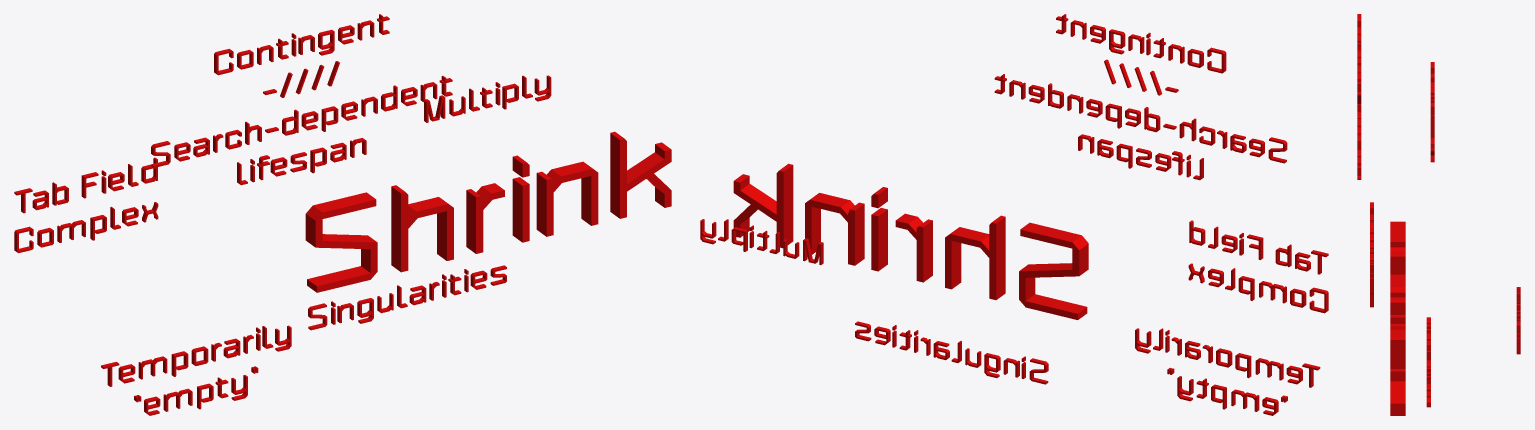
File: HYPOTHESIS_4_KEY_WORDS_FOR_HIGHLIGHTING.fbx
3 views of the same model, side by side, from view 1: azimuth 30°, elevation 25°; view 2: azimuth 150°, elevation 25°; view 3: azimuth 270°, elevation 25° (orthographic). The views are drawn at different scales.
Visible parts, largest first — view 1: Shrink, typeMesh4, typeMesh3, Tab_field_complex, singularities, Multiply; view 2: Shrink, typeMesh4, typeMesh3, Tab_field_complex, singularities, Multiply; view 3: Shrink, typeMesh4, Tab_field_complex, singularities, typeMesh3, Multiply.
Boxes of the visible parts, x1,y1,x2,y2 form: Shrink: (305, 131, 671, 292); typeMesh4: (151, 14, 452, 185); typeMesh3: (101, 325, 291, 415); Tab_field_complex: (14, 157, 158, 253); singularities: (308, 265, 506, 330); Multiply: (424, 75, 551, 122); Shrink: (733, 163, 1088, 319); typeMesh4: (994, 14, 1287, 180); typeMesh3: (1135, 328, 1320, 415); Tab_field_complex: (1188, 220, 1328, 313); singularities: (855, 321, 1048, 384); Multiply: (700, 219, 823, 264); Shrink: (1390, 221, 1405, 415); typeMesh4: (1357, 14, 1361, 179); Tab_field_complex: (1430, 62, 1434, 162); singularities: (1426, 317, 1430, 407); typeMesh3: (1370, 202, 1373, 307); Multiply: (1516, 287, 1520, 354).
Size of the model in its own units: 92.26 by 50.31 by 26.66.
